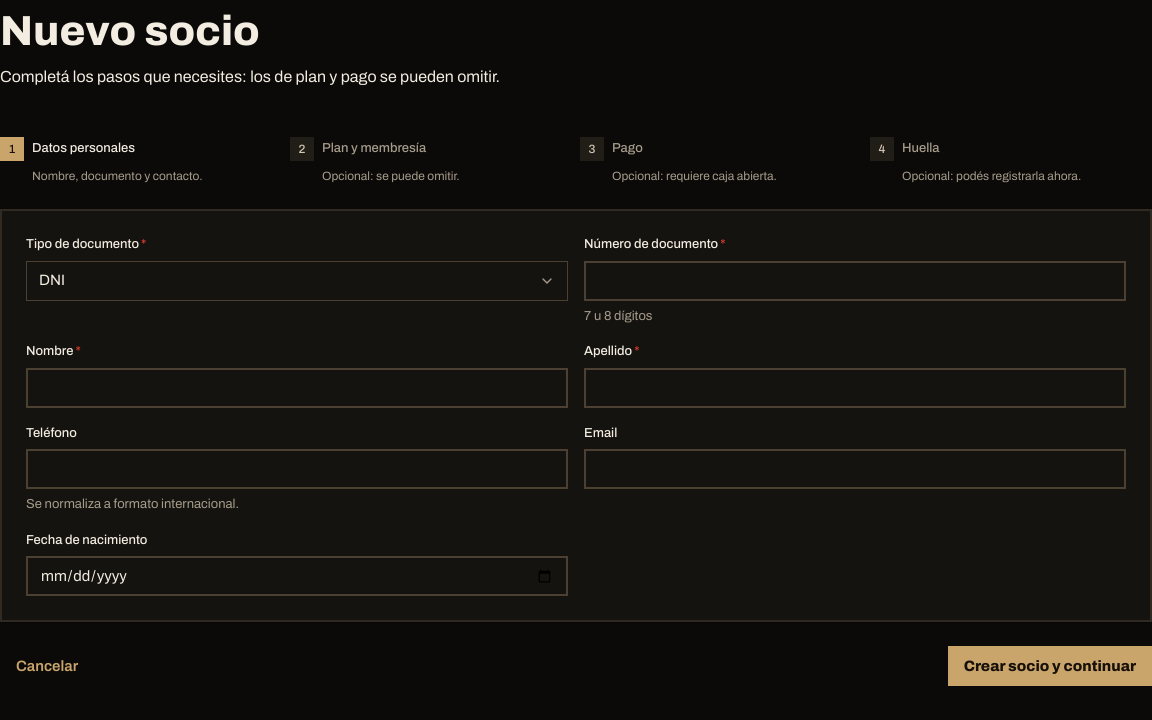
NewMemberPage › ante error del backend en el paso 1 muestra el detail y no navega
Type "20123456" into the field labelled "Número de documento*". click: (855, 280)
box: [584, 260, 1126, 300]
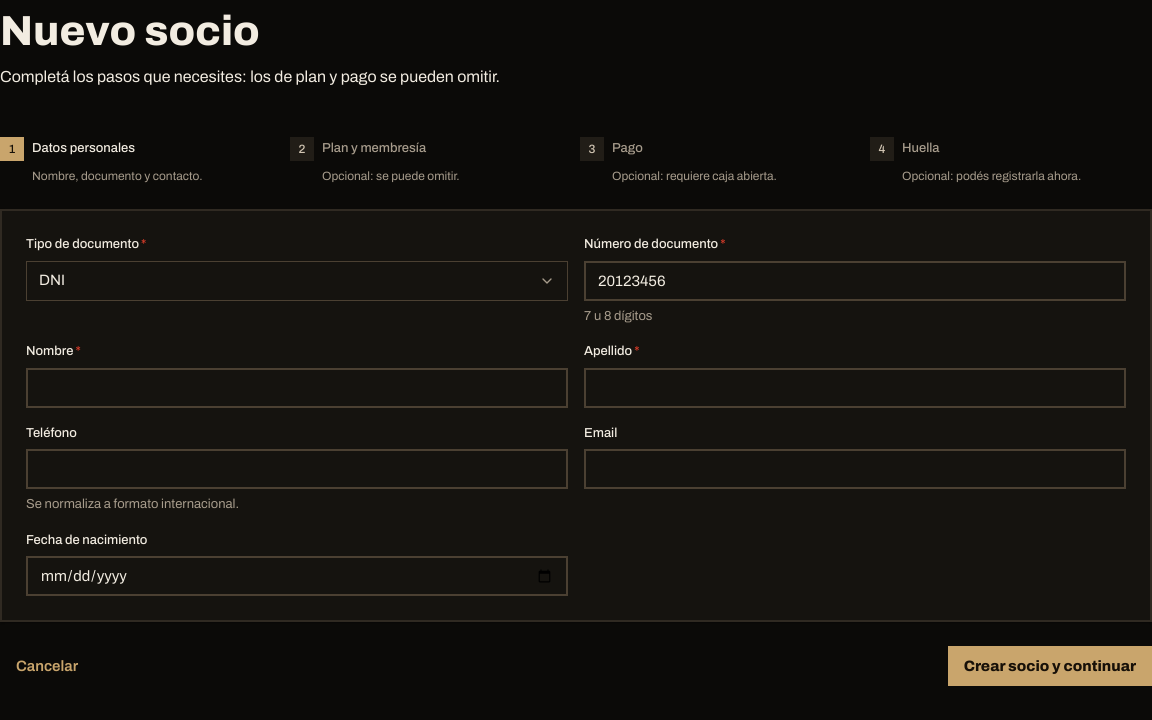
Type "Lucía" into the field labelled "Nombre*". click: (297, 388)
box: [26, 368, 568, 408]
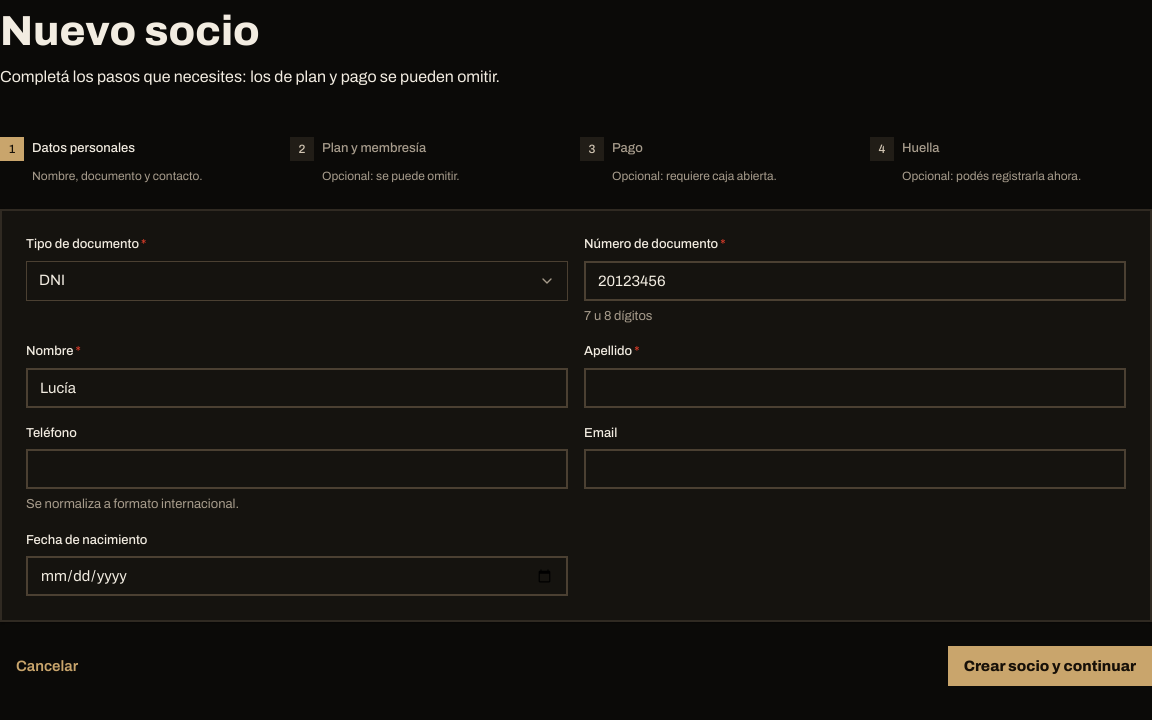
Type "Pérez" into the field labelled "Apellido*". click: (855, 388)
box: [584, 368, 1126, 408]
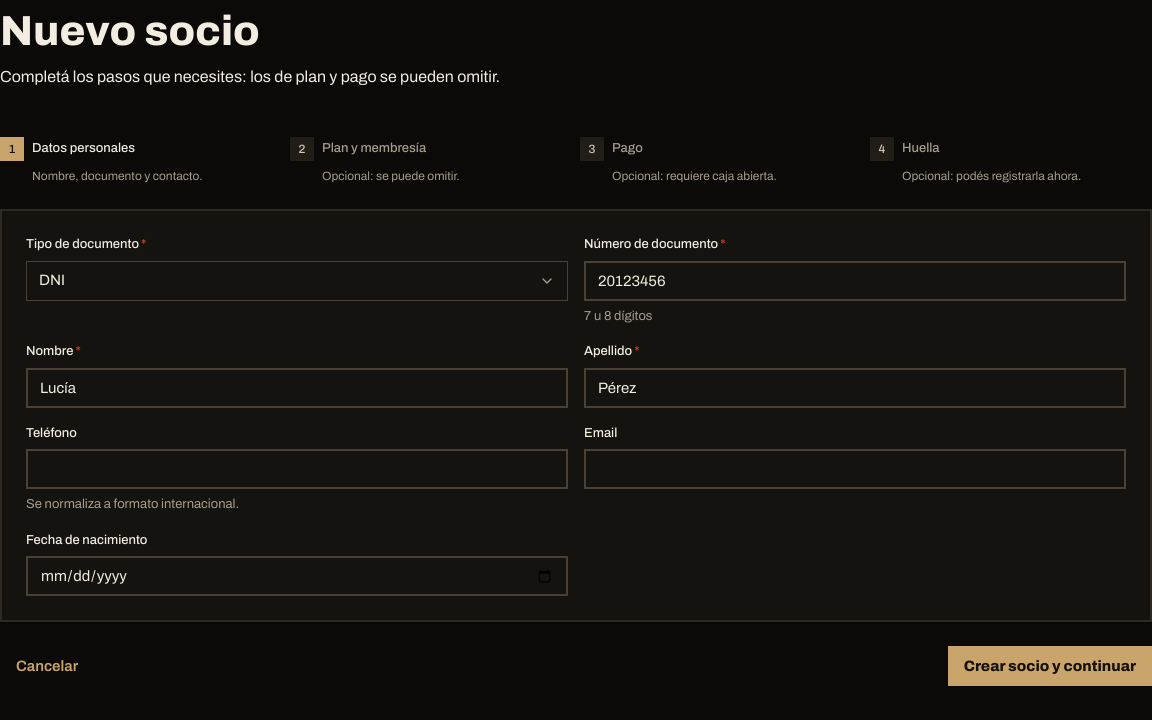
Click the button "Crear socio y continuar". click: click(1050, 666)
box: [948, 646, 1151, 686]
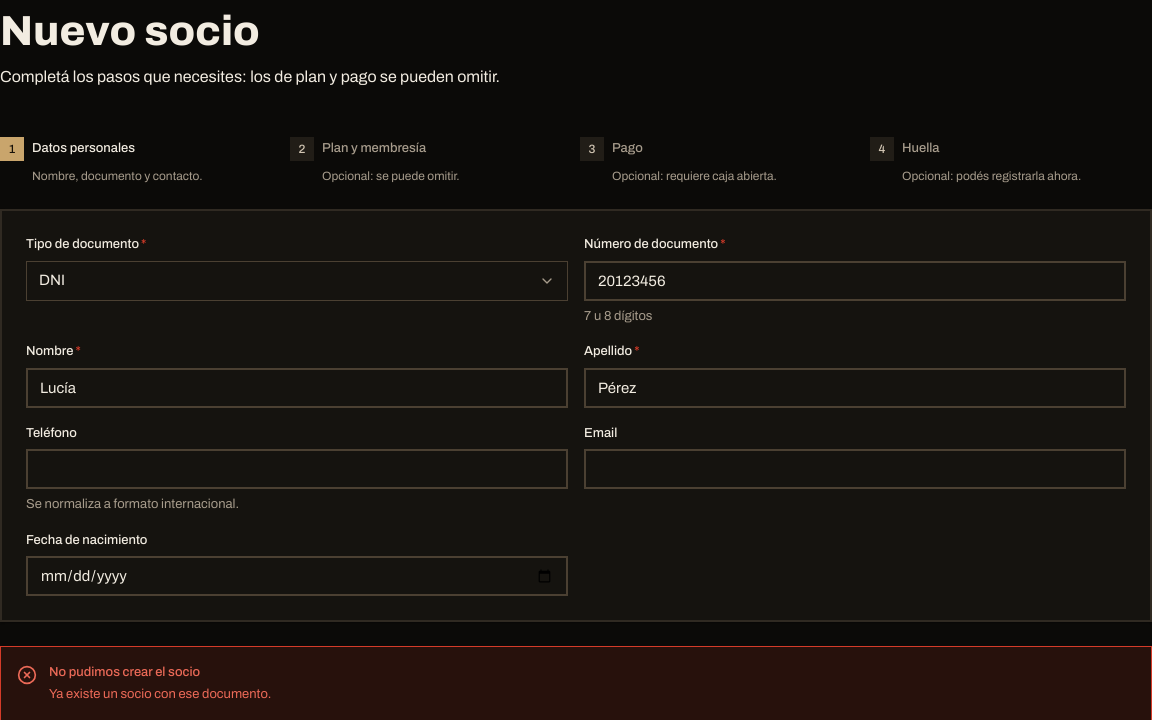
Expected: the text "Ya existe un socio con ese documento." is shown, [49, 684, 271, 704]
